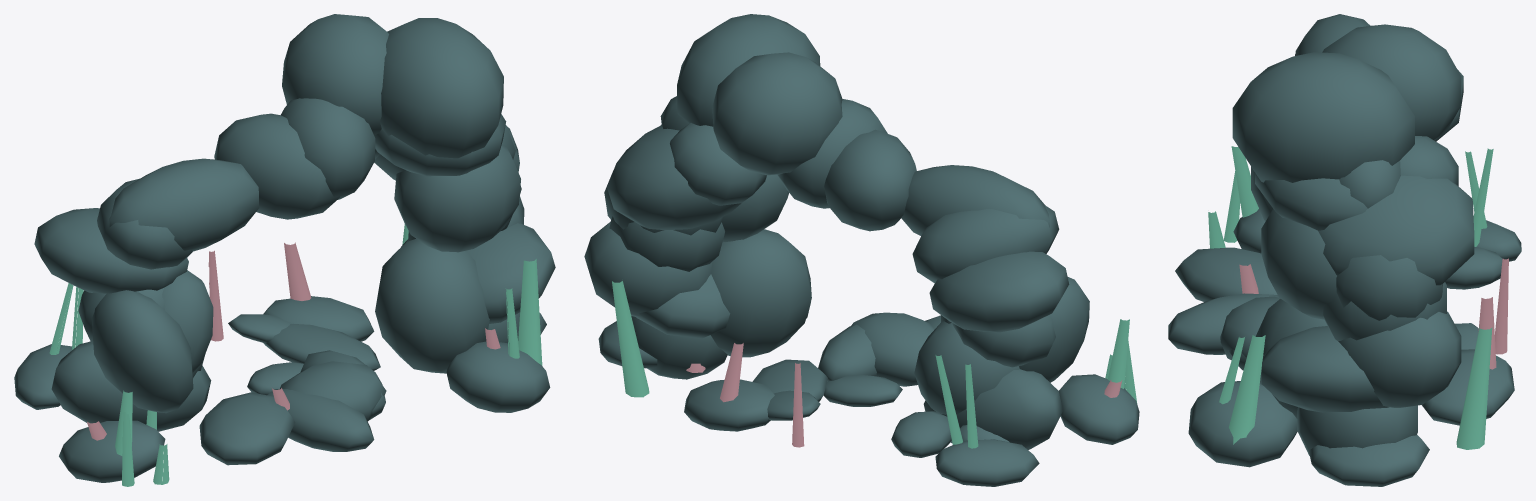
The model's file is arrecife_pasaje_pequeno.glb.
3 renders of one model, left to right at view 1: azimuth 30°, elevation 25°; view 2: azimuth 150°, elevation 25°; view 3: azimuth 270°, elevation 25°, orthographic. The views are drawn at different scales.
Parts seen in each view (by area): view 1: reef_passage_small; view 2: reef_passage_small; view 3: reef_passage_small.
Boxes of the visible parts, x1=… form: reef_passage_small: x1=14, y1=14, x2=555, y2=486; reef_passage_small: x1=584, y1=14, x2=1139, y2=486; reef_passage_small: x1=1168, y1=14, x2=1521, y2=486.
Bounding box in the file's own units: 3.22 × 2.21 × 1.83.
